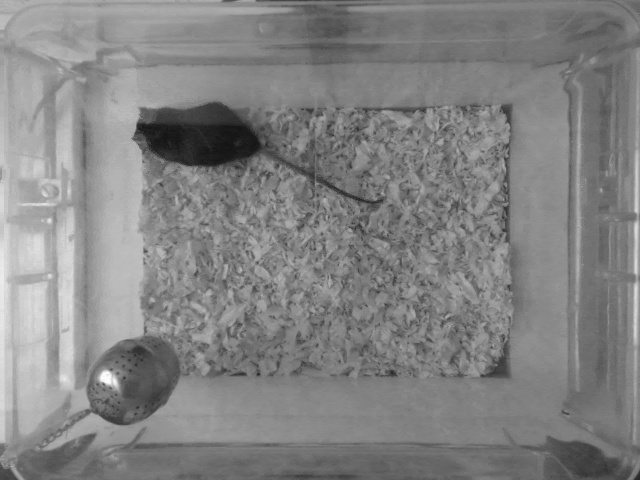mice: (129, 101, 385, 205)
